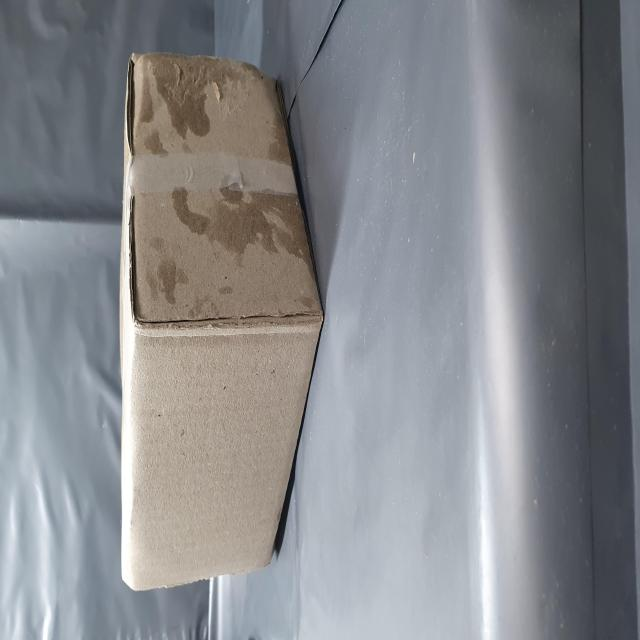wet: (178, 251, 250, 551), (274, 240, 326, 391)
